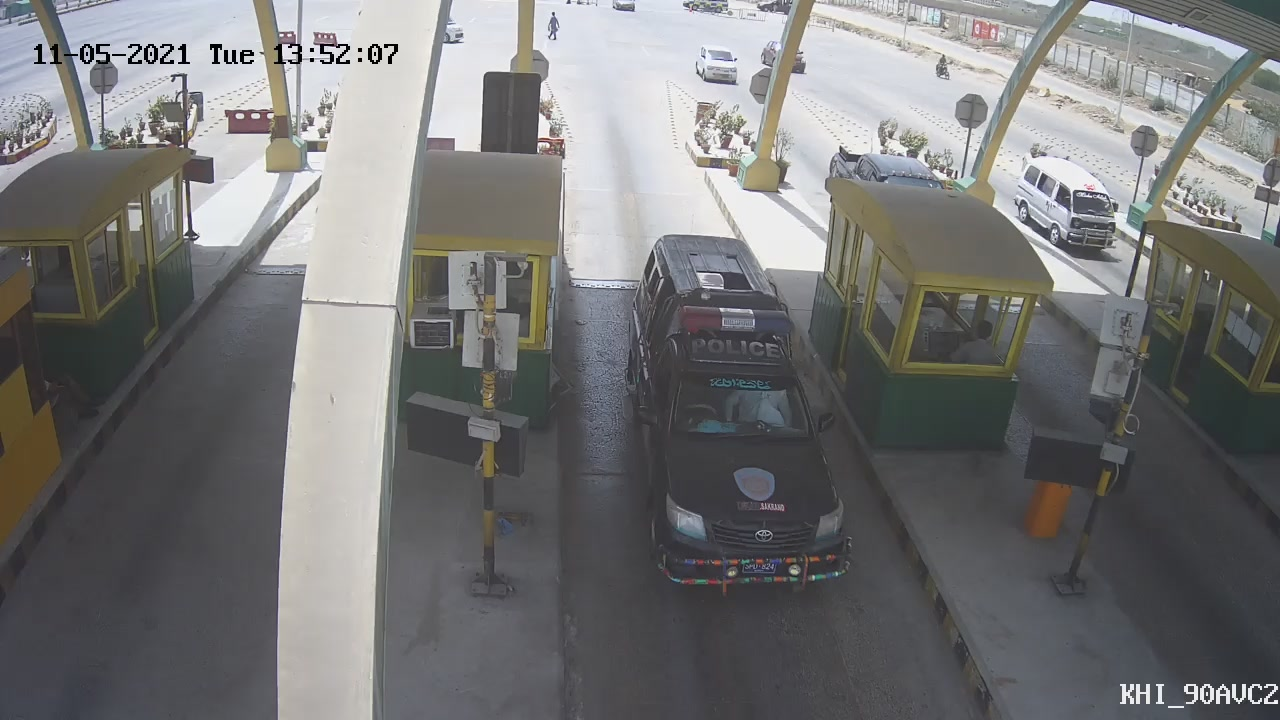F1: (606, 233, 852, 590)
